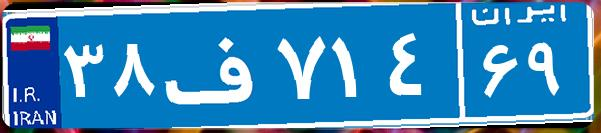1: (330, 28, 385, 110)
3: (57, 26, 110, 107)
4: (385, 28, 445, 110)
6: (475, 38, 525, 113)
7: (273, 28, 330, 110)
8: (110, 28, 158, 105)
9: (525, 38, 570, 115)
ف: (158, 15, 273, 115)
